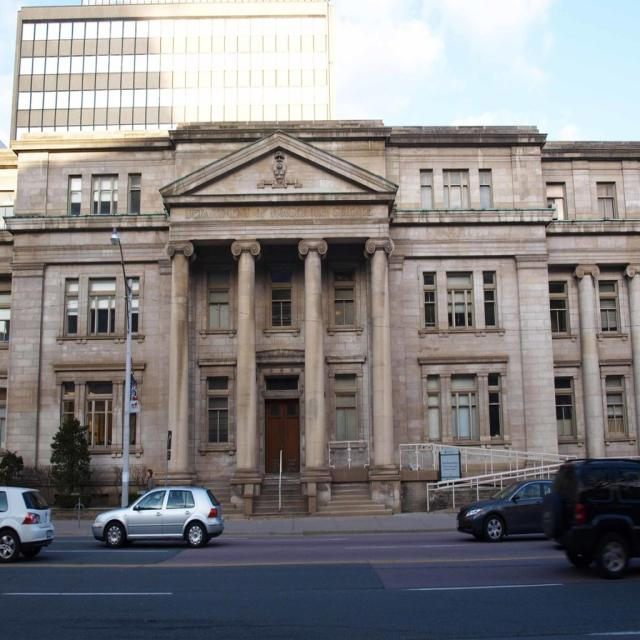car: (88, 483, 218, 553)
